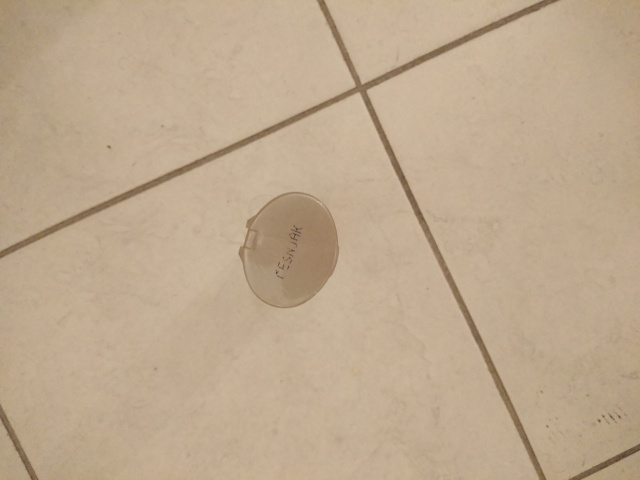Kotanyi Garlic Granules 70g: (236, 189, 342, 310)
